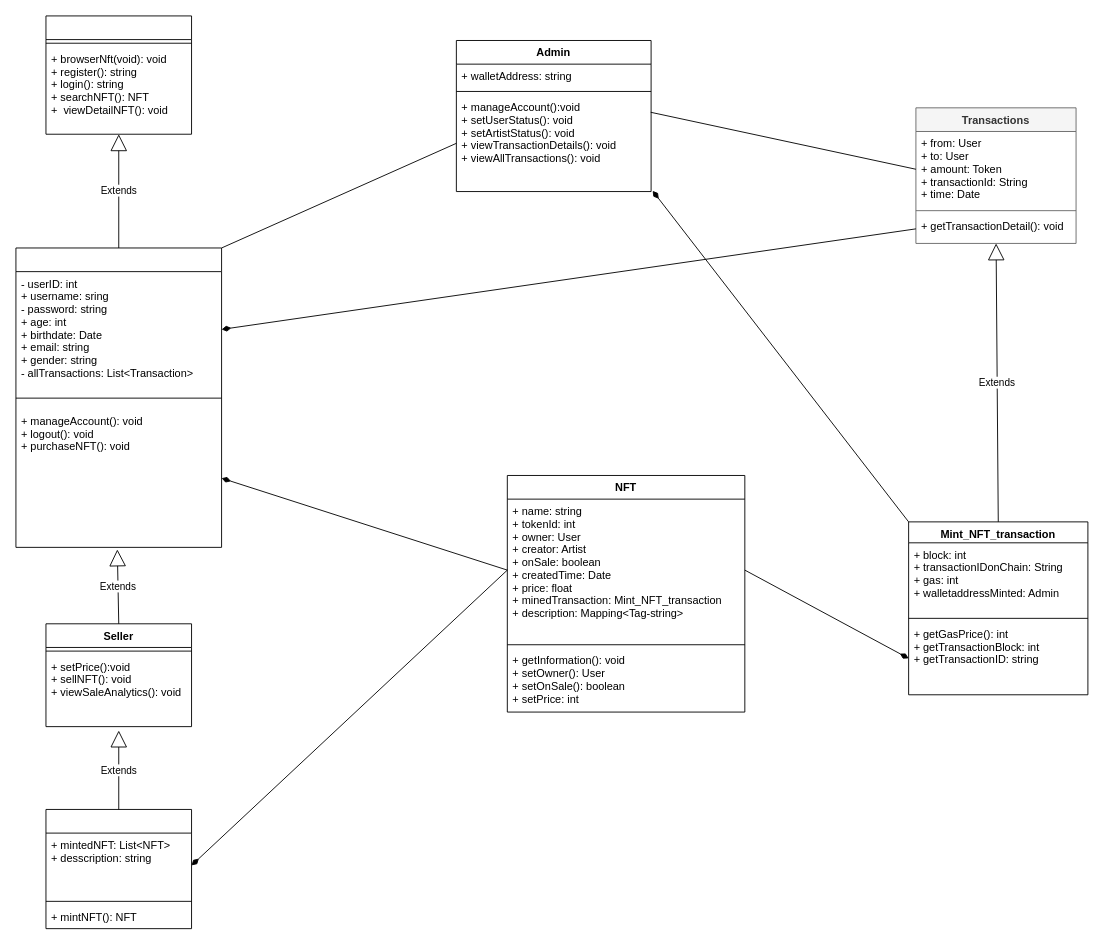
Image size: 1104x947. Some labels were removed from this diagram. Here are the shapes that lost their labels. From the top down, the box of each, then its label:
(45, 15, 192, 134): Guest
(15, 247, 222, 547): Buyer
(45, 809, 192, 929): Artist
